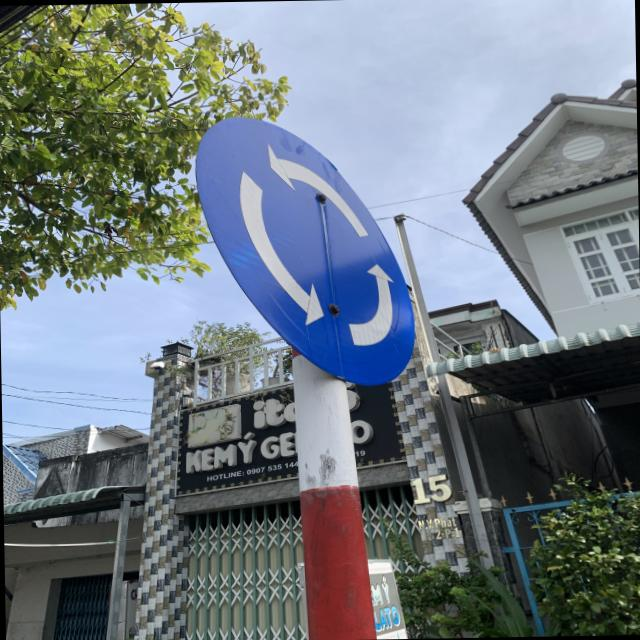Xe_Bus: (193, 109, 419, 389)
